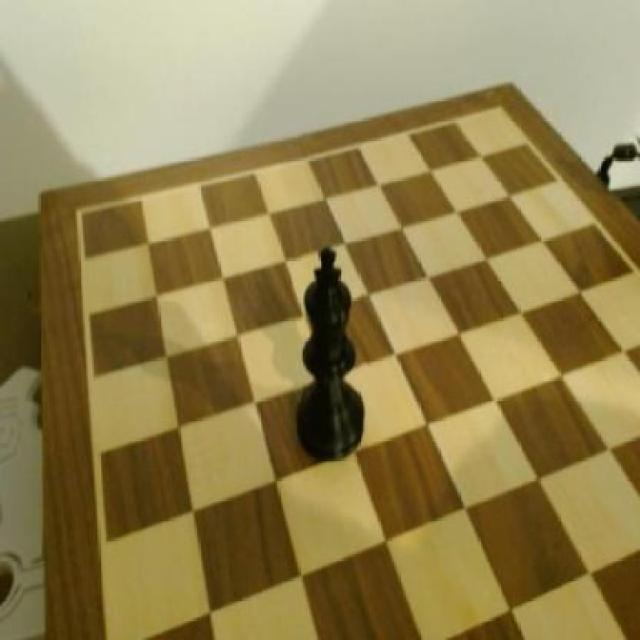black-bishop: (292, 245, 368, 460)
